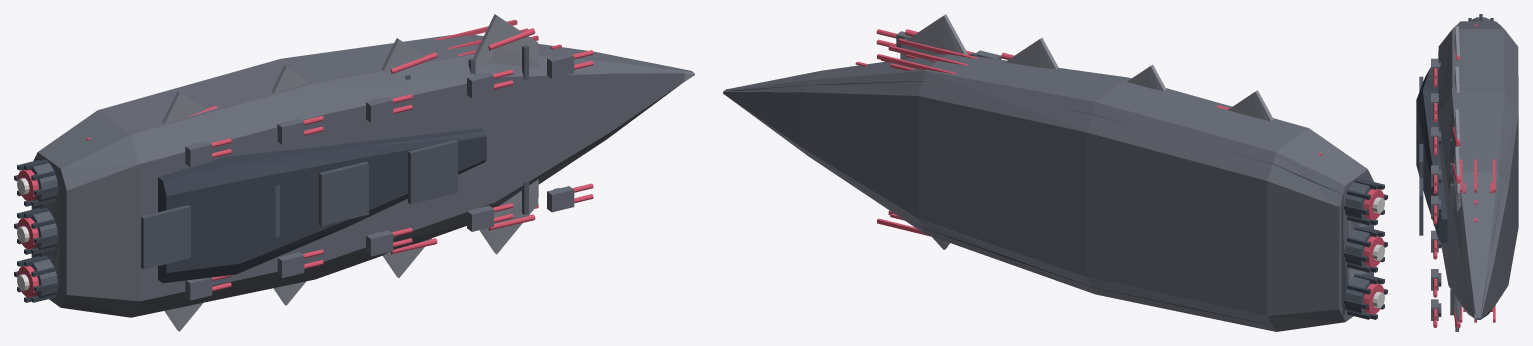
Rendered from flag-nyx-red.glb.
The picture shows the model from 3 angles, left to right: view 1: azimuth 30°, elevation 25°; view 2: azimuth 150°, elevation 25°; view 3: azimuth 270°, elevation 25°; orthographic projection. The views are drawn at different scales.
Visible parts, largest first — view 1: hull_0000, stealth_bridge_0092, angular_fins_0099, black_deck_0155, black_deck_0157, black_deck_0158, angular_fins_0097, angular_fins_0093, angular_fins_0095, turret_0120, turret_0152, engine_casing_0059 (+11 smaller); view 2: hull_0000, angular_fins_0099, lower_keel_0002, angular_fins_0097, angular_fins_0093, engine_casing_0059, engine_casing_0070, engine_casing_0081, angular_fins_0095; view 3: hull_0000, stealth_bridge_0092, angular_fins_0099, black_deck_0158, black_deck_0157, angular_fins_0097, angular_fins_0093, turret_0120, turret_0152, turret_0144, turret_0136, turret_0140 (+10 smaller).
Boxes of the visible parts, box(x1,y1,x2,y2) form: hull_0000: box(31, 35, 693, 317); stealth_bridge_0092: box(158, 128, 486, 283); angular_fins_0099: box(474, 14, 538, 254); black_deck_0155: box(141, 205, 190, 269); black_deck_0157: box(319, 161, 368, 225); black_deck_0158: box(408, 140, 457, 204); angular_fins_0097: box(381, 38, 432, 277); angular_fins_0093: box(162, 91, 205, 331); angular_fins_0095: box(271, 65, 308, 305); turret_0120: box(185, 141, 212, 167); turret_0152: box(547, 52, 574, 78); engine_casing_0059: box(21, 256, 57, 297); hull_0000: box(723, 54, 1373, 331); angular_fins_0099: box(900, 14, 968, 249); lower_keel_0002: box(725, 81, 1348, 325); angular_fins_0097: box(1005, 37, 1058, 69); angular_fins_0093: box(1227, 90, 1273, 121); engine_casing_0059: box(1345, 274, 1380, 314); engine_casing_0070: box(1345, 227, 1380, 267); engine_casing_0081: box(1345, 180, 1380, 220); angular_fins_0095: box(1127, 64, 1166, 91); hull_0000: box(1438, 21, 1518, 319); stealth_bridge_0092: box(1416, 67, 1447, 243); angular_fins_0099: box(1453, 146, 1461, 331); black_deck_0158: box(1419, 178, 1423, 235); black_deck_0157: box(1419, 144, 1423, 177); angular_fins_0097: box(1454, 109, 1460, 147); angular_fins_0093: box(1454, 26, 1459, 56); turret_0120: box(1431, 58, 1438, 80); turret_0152: box(1431, 195, 1438, 217); turret_0144: box(1431, 165, 1438, 187); turret_0136: box(1431, 127, 1438, 148); turret_0140: box(1431, 269, 1438, 290).
Bounding box in the file's own units: 22.59 × 7.7 × 3.86.
